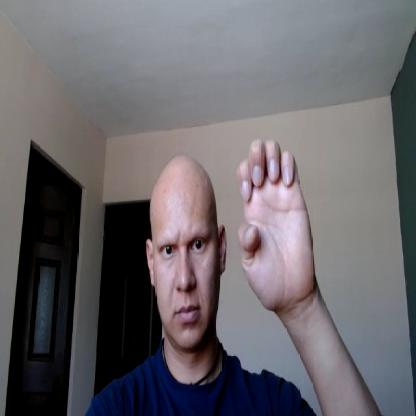E: (236, 136, 314, 313)
